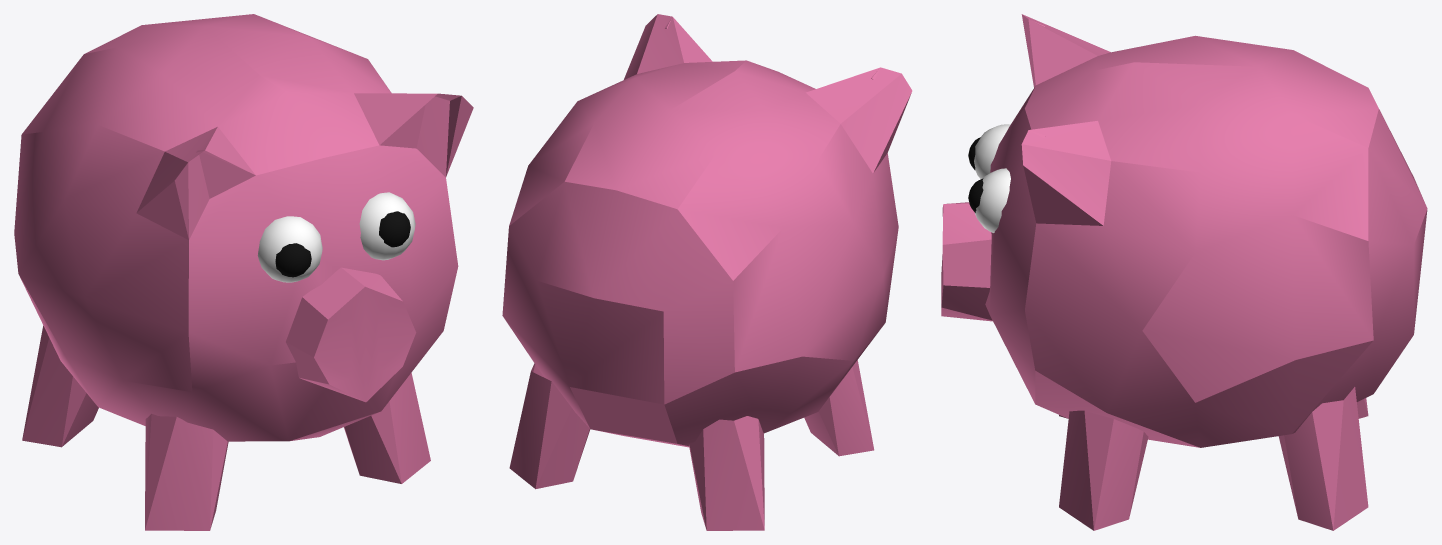
File: piggy.fbx
3 views of the same model, side by side, from view 1: azimuth 30°, elevation 25°; view 2: azimuth 150°, elevation 25°; view 3: azimuth 270°, elevation 25° (orthographic). The views are drawn at different scales.
Visible parts, largest first — view 1: piggy, eye_2, eye_1, pupil_2, pupil_1; view 2: piggy; view 3: piggy, eye_1, eye_2.
Boxes of the visible parts, x1,y1,x2,y2 form: piggy: (14, 14, 473, 530); eye_2: (257, 216, 322, 282); eye_1: (359, 192, 415, 260); pupil_2: (275, 243, 311, 277); pupil_1: (379, 211, 410, 247); piggy: (502, 14, 912, 530); piggy: (941, 14, 1427, 530); eye_1: (975, 168, 1010, 232); eye_2: (974, 124, 1010, 178).
Size of the model in its own units: 1.17 by 1.28 by 1.42.
